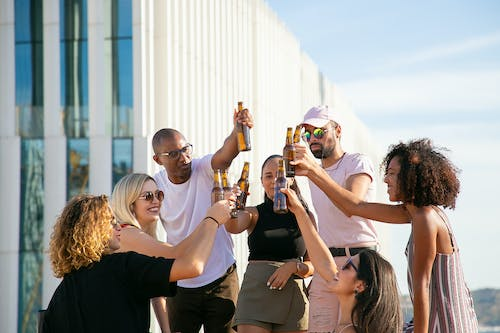alcohol: (234, 100, 252, 153), (279, 126, 297, 178), (272, 158, 289, 213), (220, 169, 238, 220), (236, 159, 253, 210), (209, 168, 226, 208), (293, 122, 305, 143)
